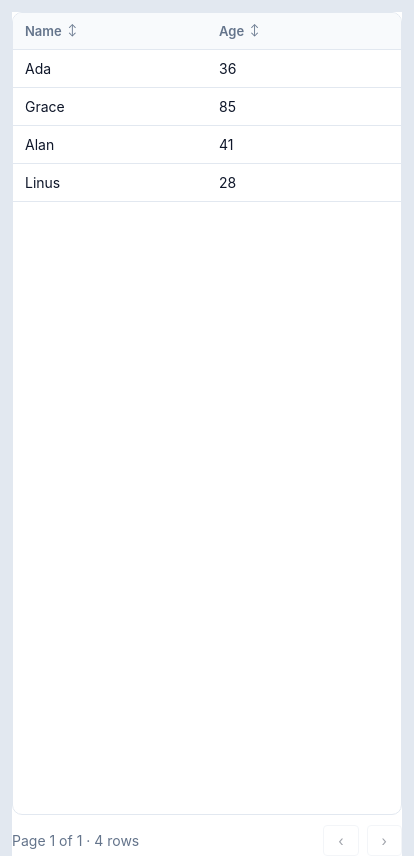
Test: <DataTable /> (react-native) — client mode › reflects sort state in the header indicator when a header is pressed
The width and height of the screenshot is (414, 856).
Check: the text "▲" is not shown
Click the button labelled "Age ↕" at (304, 31), box [207, 13, 401, 49]
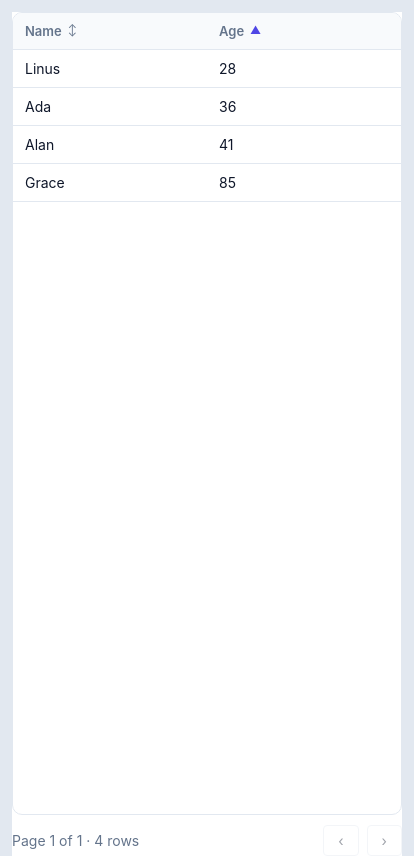
Check: the text "▲" is shown, box [250, 23, 261, 37]
